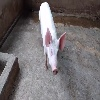heo: (42, 27, 70, 77)
